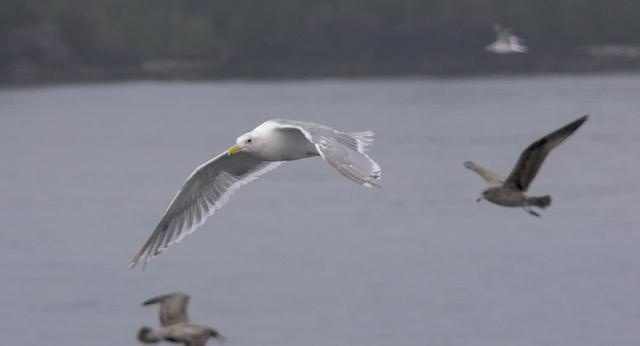bird: (124, 116, 380, 272), (446, 112, 597, 221), (125, 293, 224, 346), (479, 19, 532, 64)
